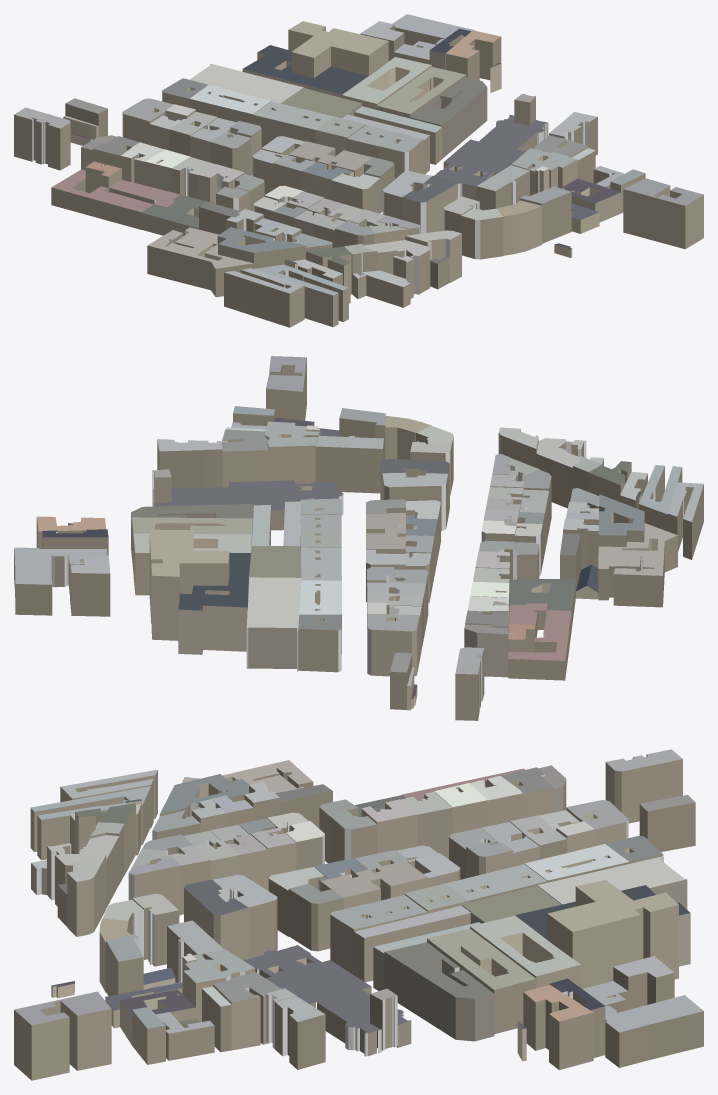
3 renders of one model, top to bottom at view 1: azimuth 30°, elevation 25°; view 2: azimuth 150°, elevation 25°; view 3: azimuth 270°, elevation 25°, orthographic. The views are drawn at different scales.
Visible parts, largest first — view 1: tuile; view 2: tuile; view 3: tuile.
Part boxes in pixels (x1,y1,x2,y2): tuile: (14, 14, 703, 327); tuile: (14, 356, 703, 720); tuile: (14, 749, 703, 1080).
Bounding box in the file's own units: 280 × 38.45 × 284.
